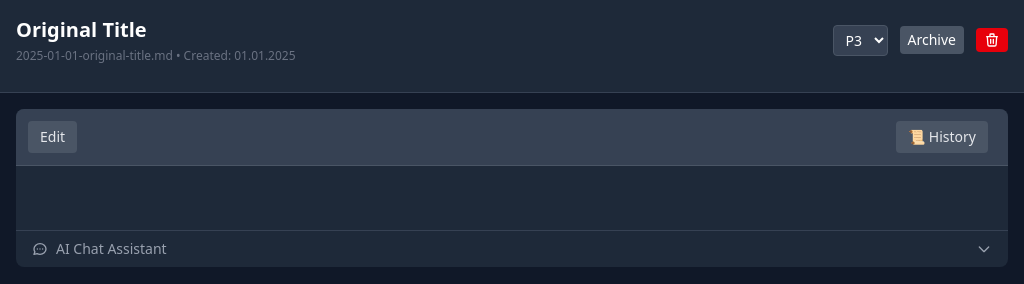
Test: Todo Management Integration Tests › Title Editing & File Operations › should allow entering edit mode by clicking on title
The width and height of the screenshot is (1024, 284).
Click the heading "Original Title" at (81, 30), box [16, 16, 147, 43]
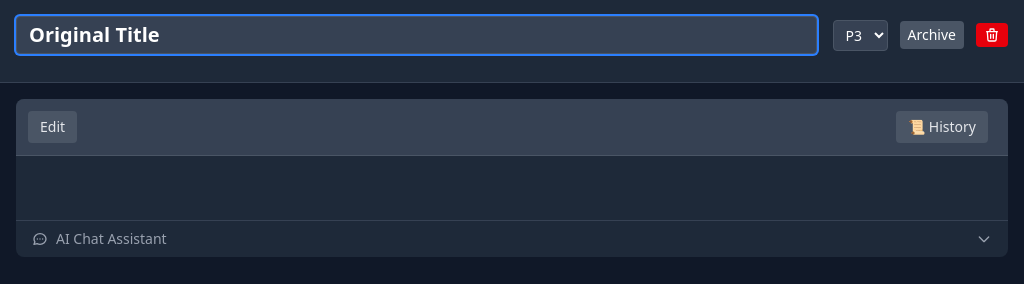
Now the field showing "Original Title" is shown, box [16, 16, 816, 54]
